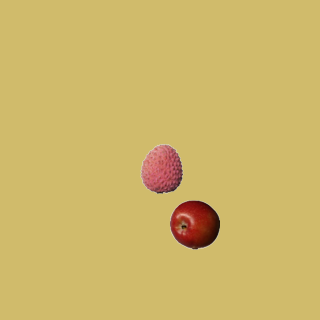Apple Braeburn: (169, 199, 219, 249)
Lychee: (136, 143, 186, 193)
